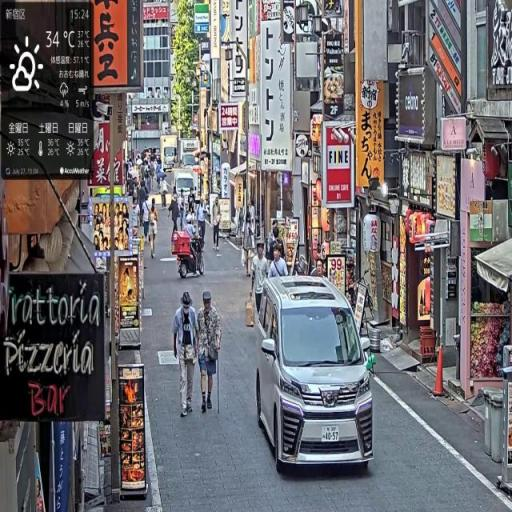person: (174, 291, 199, 418), (197, 292, 223, 414), (181, 214, 205, 279), (253, 240, 270, 323), (269, 245, 292, 281), (243, 212, 255, 279), (197, 197, 211, 251), (270, 228, 287, 264), (150, 200, 160, 261), (212, 198, 223, 252), (144, 197, 153, 243), (316, 256, 329, 287)
